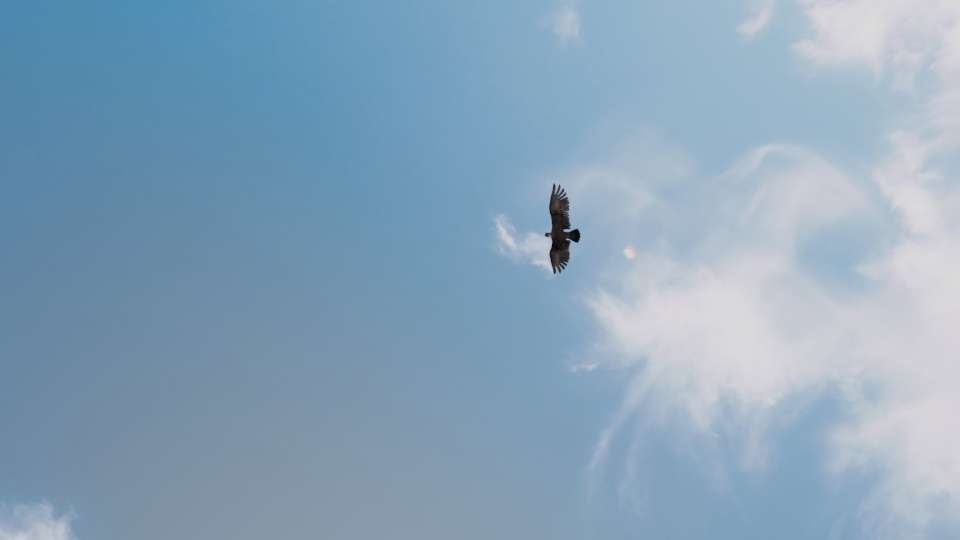bird: (541, 180, 579, 271)
